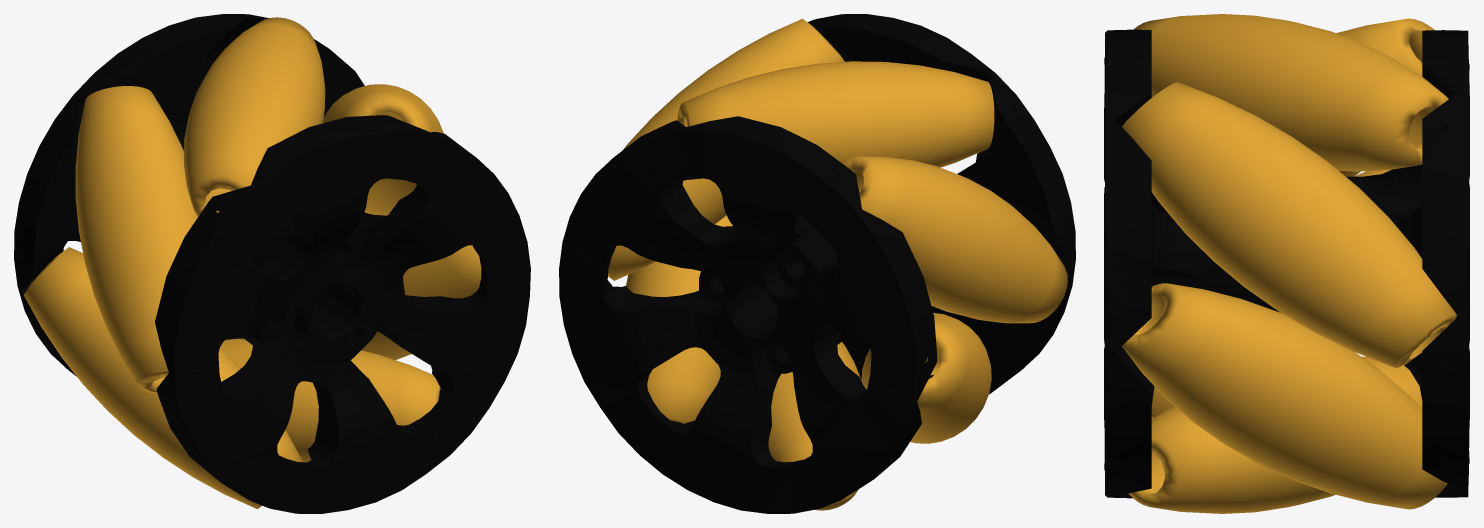
The model's file is front-left_wheel.dae.
The picture shows the model from 3 angles, left to right: view 1: azimuth 30°, elevation 25°; view 2: azimuth 150°, elevation 25°; view 3: azimuth 270°, elevation 25°; orthographic projection. The views are drawn at different scales.
Visible parts, largest first — view 1: front-left_wheel_join; view 2: front-left_wheel_join; view 3: front-left_wheel_join.
Part boxes in pixels (box(x1,y1,x2,y2)): front-left_wheel_join: box(14, 14, 530, 513); front-left_wheel_join: box(559, 14, 1075, 513); front-left_wheel_join: box(1104, 14, 1469, 513).
Bounding box in the file's own units: 0.0999 × 0.0731 × 0.0997.
